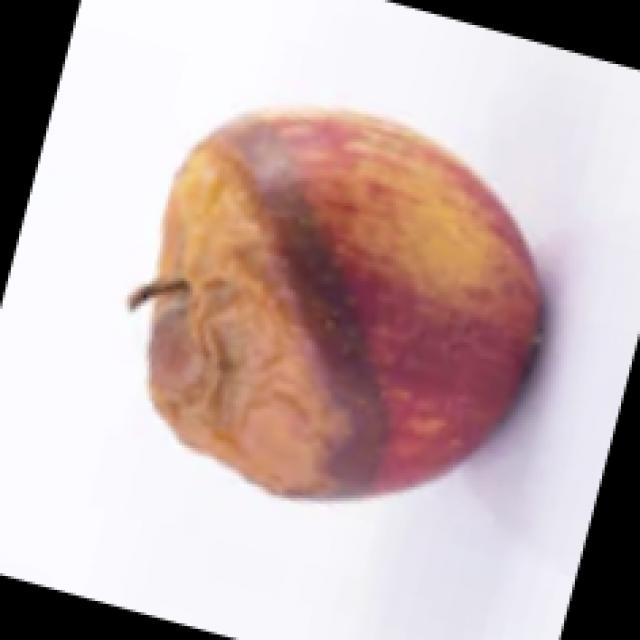Rotten: (134, 98, 538, 507)
